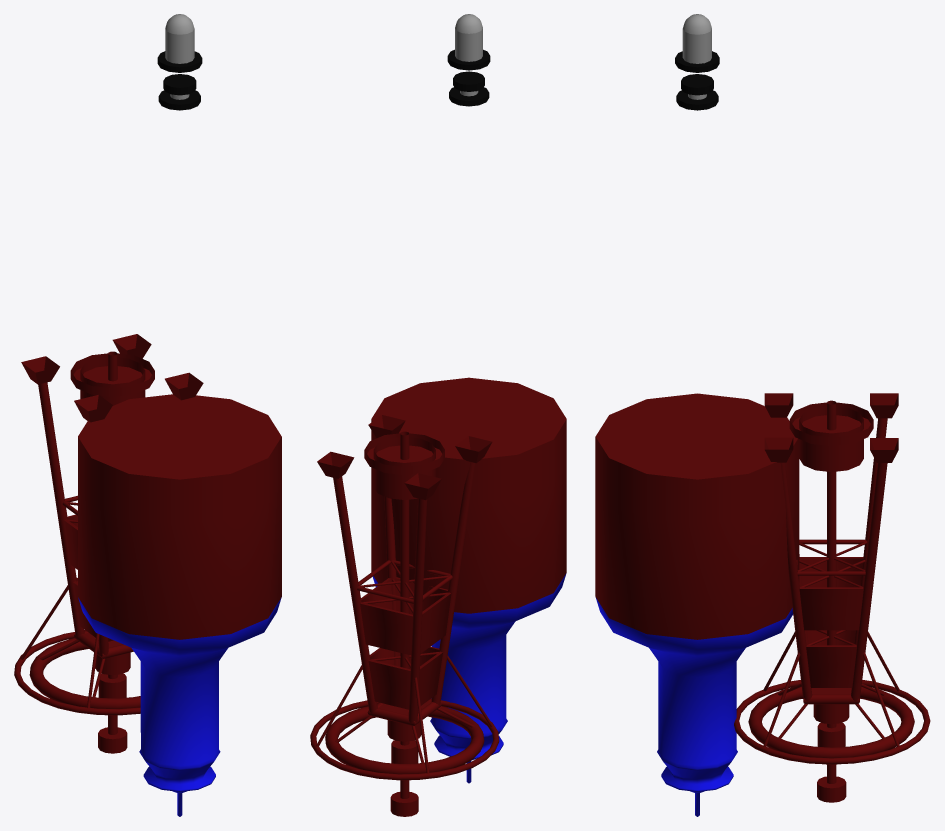
File: BuoyRed_.FBX
The picture shows the model from 3 angles, left to right: view 1: azimuth 30°, elevation 25°; view 2: azimuth 150°, elevation 25°; view 3: azimuth 270°, elevation 25°; orthographic projection. The views are drawn at different scales.
Visible parts, largest first — view 1: Buoy, Tower, Light_2; view 2: Buoy, Tower, Light_2; view 3: Buoy, Tower, Light_2.
Part boxes in pixels (<box>): Buoy: <box>78,394,281,816</box>; Tower: <box>14,334,203,753</box>; Light_2: <box>157,14,202,110</box>; Buoy: <box>371,377,566,783</box>; Tower: <box>310,415,499,816</box>; Light_2: <box>447,14,490,106</box>; Buoy: <box>595,393,799,816</box>; Tower: <box>734,393,930,802</box>; Light_2: <box>675,14,719,110</box>.
Size of the model in its own units: 3.2 by 13.87 by 5.25.
